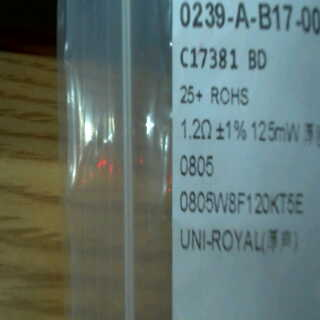1.2R: (177, 117, 215, 183)
